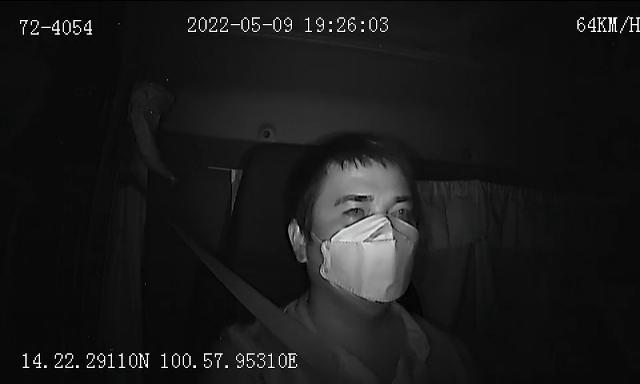SafeDriving: (336, 196, 374, 221)
Seatbelt: (198, 248, 336, 384)
